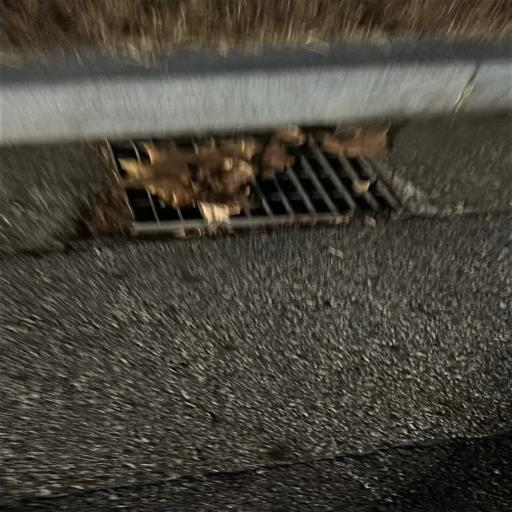debris: (122, 136, 260, 207), (322, 122, 379, 175), (264, 124, 305, 176), (197, 191, 251, 219), (353, 180, 369, 194), (392, 195, 401, 208), (184, 133, 207, 137), (372, 203, 377, 209)
drain: (116, 122, 402, 224)
